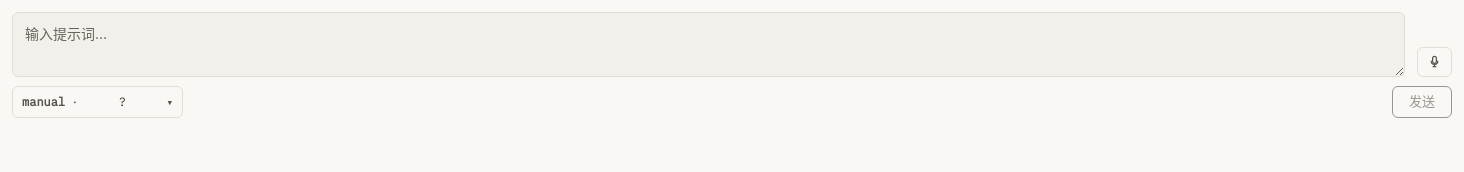
Composer voice input (ui-spec §4.8, m-voice) › names a denied microphone and a silent session in the hint slot
Click the button with test id "composer-voice": (1434, 62) [1417,47,1452,77]
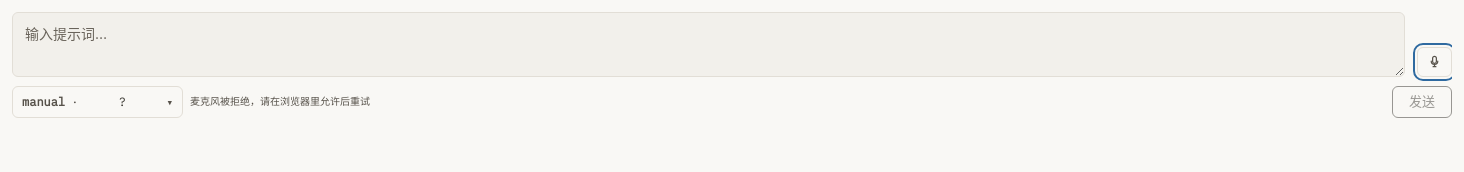
Expected: the message with test id "composer-voice-hint" reads "麦克风被拒绝，请在浏览器里允许后重试", [190,95,370,108]
Click the button with test id "composer-voice": (1434, 62) [1417,47,1452,77]
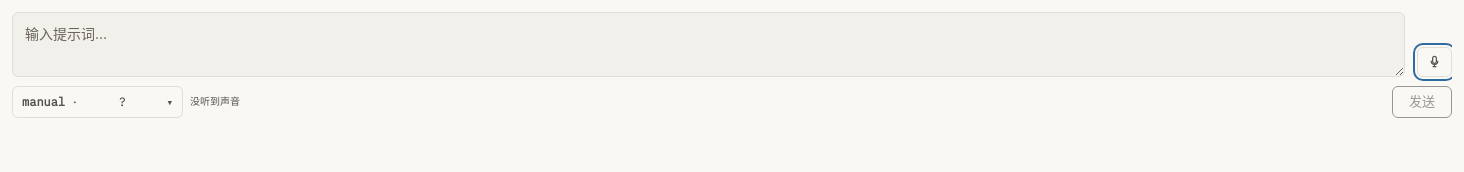
Expected: the message with test id "composer-voice-hint" reads "没听到声音", [190,95,240,108]
